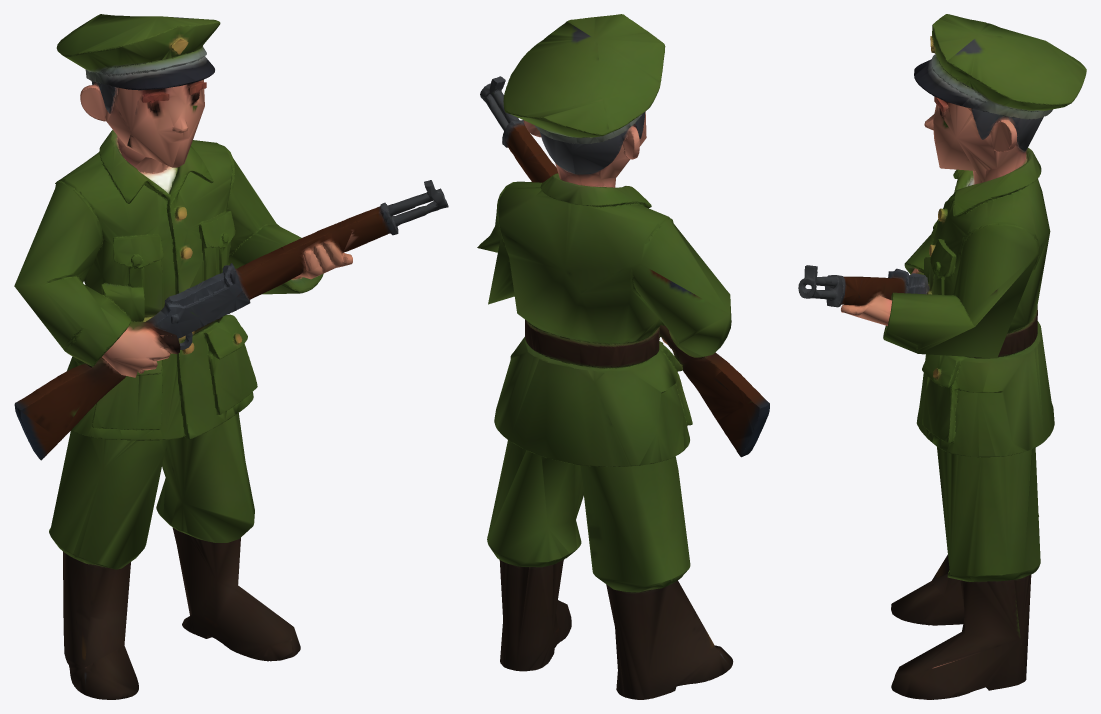
File: soldado_chino.glb
The picture shows the model from 3 angles, left to right: view 1: azimuth 30°, elevation 25°; view 2: azimuth 150°, elevation 25°; view 3: azimuth 270°, elevation 25°; orthographic projection. The views are drawn at different scales.
Parts seen in each view (by area): view 1: model; view 2: model; view 3: model.
Part boxes in pixels (box(x1,y1,x2,y2)): model: box(14, 14, 448, 699); model: box(477, 14, 769, 699); model: box(798, 14, 1086, 699).
Bounding box in the file's own units: 0.9928 × 1.7 × 0.7115.
1 material, 1 textured.
